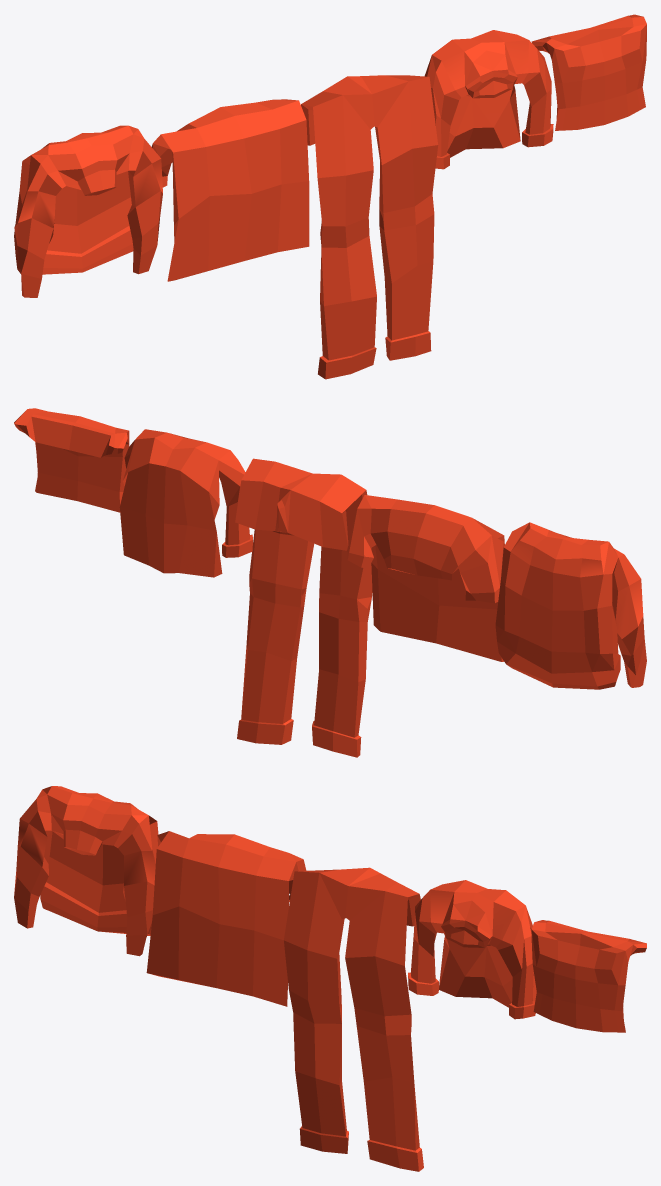
The model's file is SM_Hanging_Clothes_Long_City.fbx.
3 renders of one model, top to bottom at view 1: azimuth 30°, elevation 25°; view 2: azimuth 150°, elevation 25°; view 3: azimuth 330°, elevation 25°, orthographic.
Parts seen in each view (by area): view 1: SM_Hanging_Clothes_Long_City; view 2: SM_Hanging_Clothes_Long_City; view 3: SM_Hanging_Clothes_Long_City.
Boxes of the visible parts, box(x1,y1,x2,y2) form: SM_Hanging_Clothes_Long_City: box(14, 14, 646, 379); SM_Hanging_Clothes_Long_City: box(14, 408, 646, 757); SM_Hanging_Clothes_Long_City: box(14, 786, 646, 1171).
Size of the model in its own units: 1.76 by 0.7819 by 0.1841.
